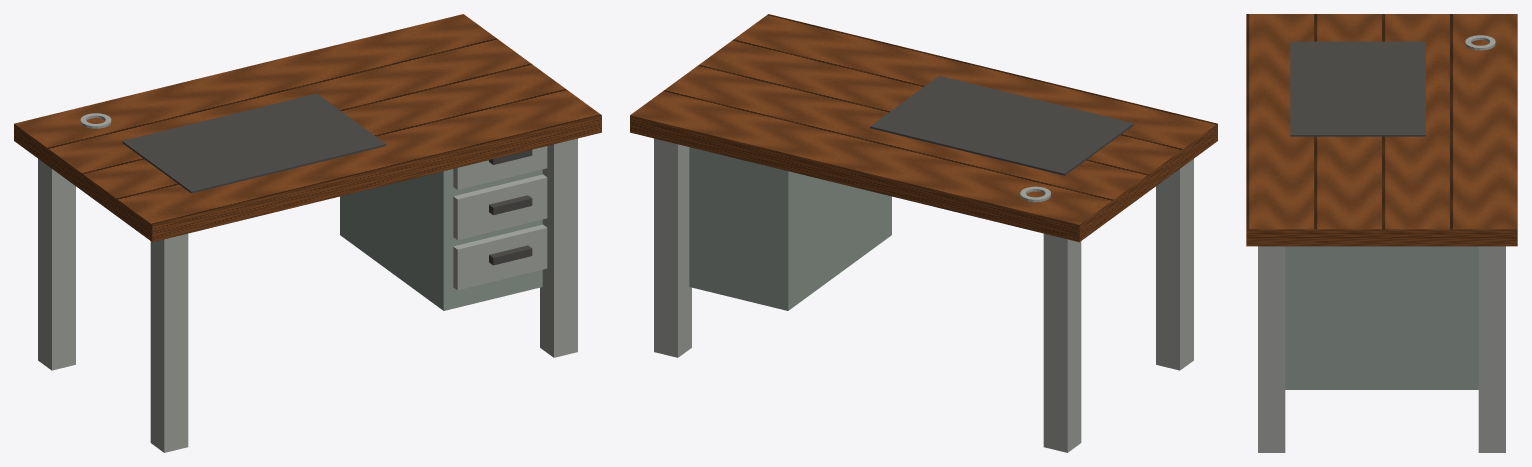
File: signal-house-relay-operator-desk__200.glb
The picture shows the model from 3 angles, left to right: view 1: azimuth 30°, elevation 25°; view 2: azimuth 150°, elevation 25°; view 3: azimuth 270°, elevation 25°; orthographic projection.
Visible parts, largest first — view 1: wood, metal, dark, shell; view 2: wood, metal, shell, dark; view 3: wood, shell, dark, metal.
Boxes of the visible parts, <box> form: wood: <box>14,14,601,242</box>; metal: <box>38,113,577,452</box>; dark: <box>122,93,532,265</box>; shell: <box>340,169,542,310</box>; wood: <box>630,14,1217,242</box>; metal: <box>654,138,1193,452</box>; shell: <box>689,147,891,310</box>; dark: <box>870,75,1133,175</box>; wood: <box>1246,14,1517,246</box>; shell: <box>1285,246,1478,389</box>; dark: <box>1290,41,1425,136</box>; metal: <box>1258,35,1505,452</box>.
Bounding box in the file's own units: 1.5 × 0.763 × 0.8.
4 materials, 1 textured.
